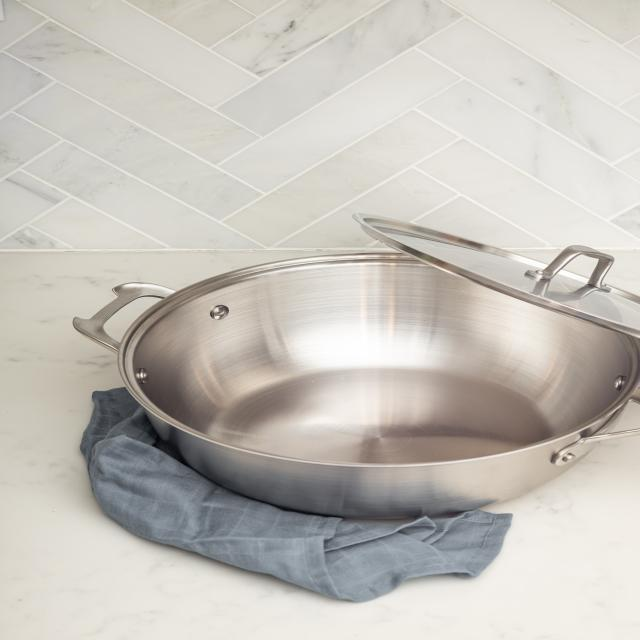Metal: (3, 209, 640, 516)
